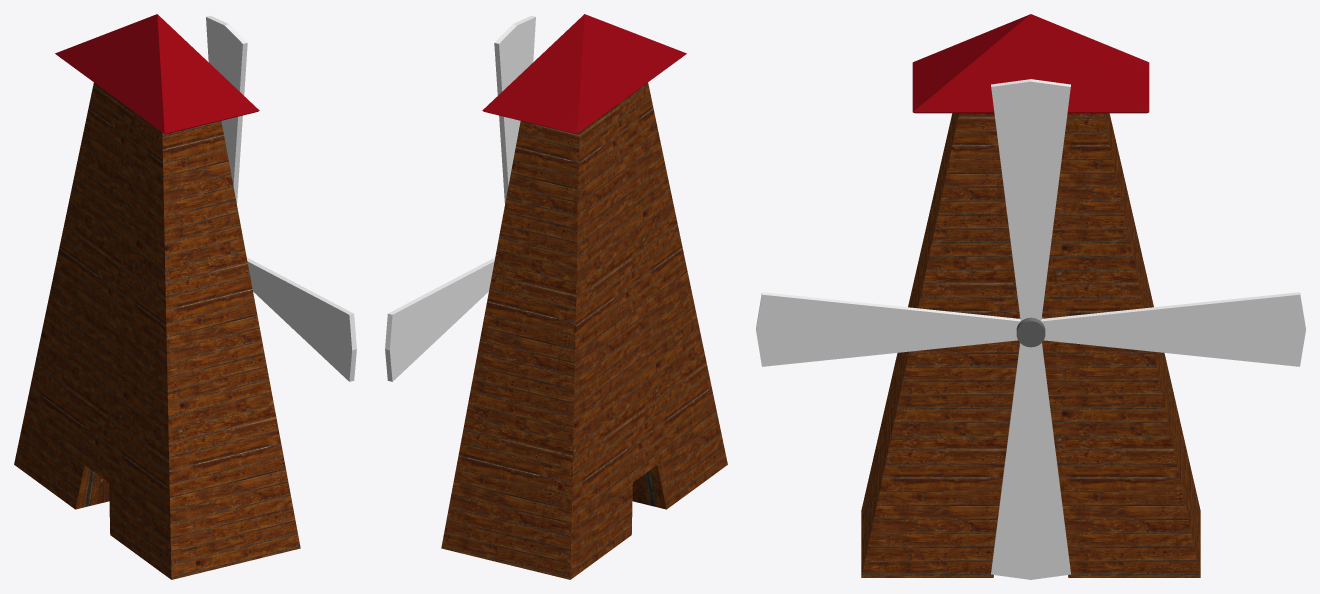
The model's file is windmill.fbx.
3 views of the same model, side by side, from view 1: azimuth 30°, elevation 25°; view 2: azimuth 150°, elevation 25°; view 3: azimuth 270°, elevation 25° (orthographic). The views are drawn at different scales.
Parts seen in each view (by area): view 1: Main, Roof, Blades; view 2: Main, Roof, Blades; view 3: Main, Blades, Roof, Cylinder.
Boxes of the visible parts, x1,y1,x2,y2 form: Main: [14, 82, 300, 579]; Roof: [55, 14, 259, 134]; Blades: [206, 15, 356, 381]; Main: [441, 82, 727, 579]; Roof: [482, 14, 686, 134]; Blades: [385, 15, 535, 381]; Main: [861, 113, 1200, 577]; Blades: [756, 79, 1305, 579]; Roof: [912, 14, 1149, 113]; Cylinder: [1016, 316, 1045, 347].
Size of the model in its own units: 571 by 1880 by 1768.
8 materials, 8 textured.
